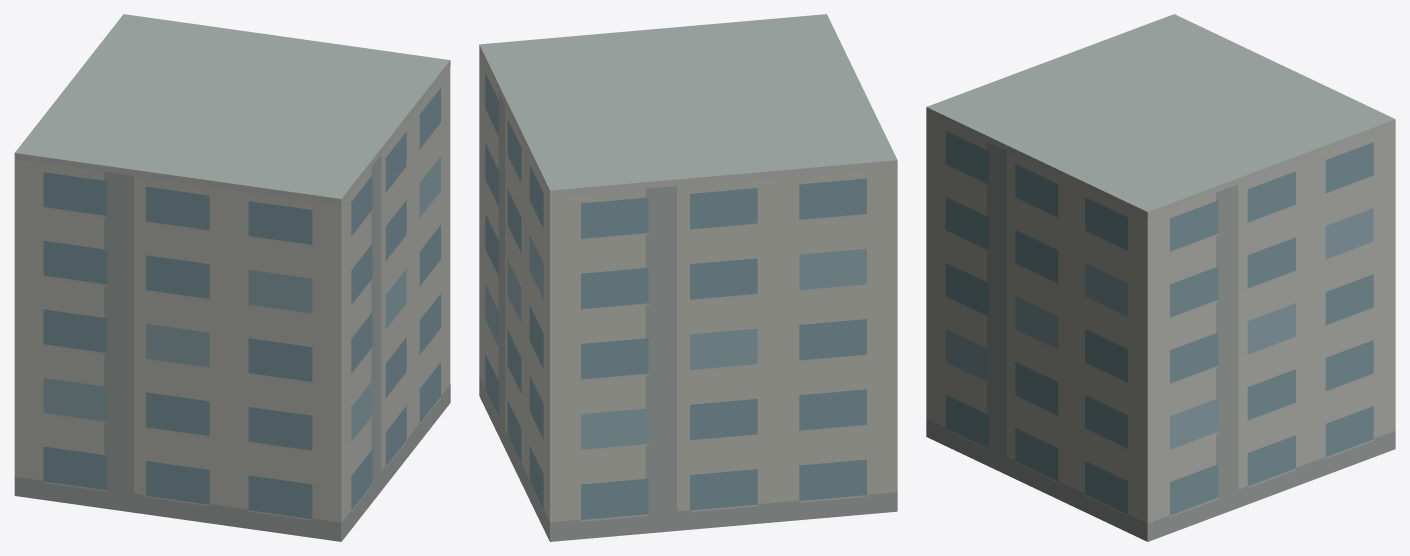
The model's file is survey-upis-32850323.glb.
3 renders of one model, left to right at view 1: azimuth 30°, elevation 25°; view 2: azimuth 150°, elevation 25°; view 3: azimuth 270°, elevation 25°, orthographic. The views are drawn at different scales.
Visible parts, largest first — view 1: survey-upis-32850323.tmp; view 2: survey-upis-32850323.tmp; view 3: survey-upis-32850323.tmp.
Boxes of the visible parts, x1=… form: survey-upis-32850323.tmp: x1=14, y1=14, x2=450, y2=541; survey-upis-32850323.tmp: x1=479, y1=14, x2=897, y2=541; survey-upis-32850323.tmp: x1=926, y1=14, x2=1395, y2=541.
Bounding box in the file's own units: 17.01 × 13.2 × 17.03.
